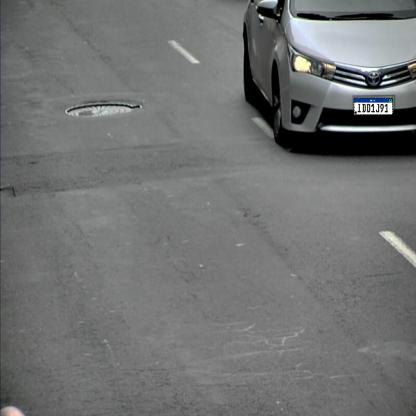PlacaM: (354, 98, 393, 115)
